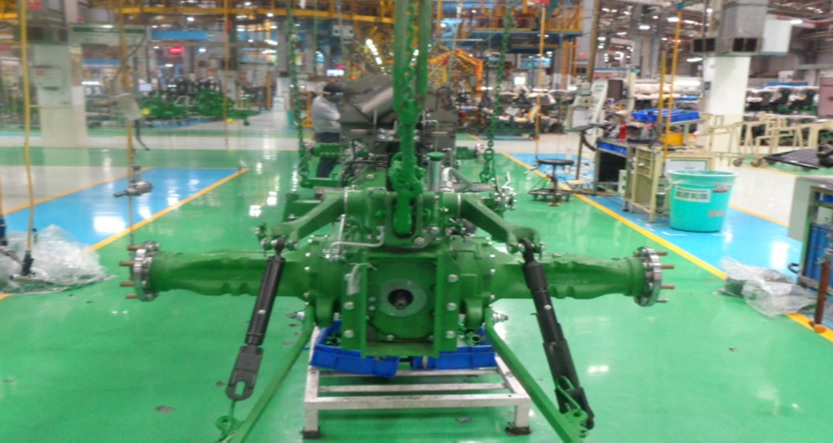engine: (117, 152, 678, 423)
